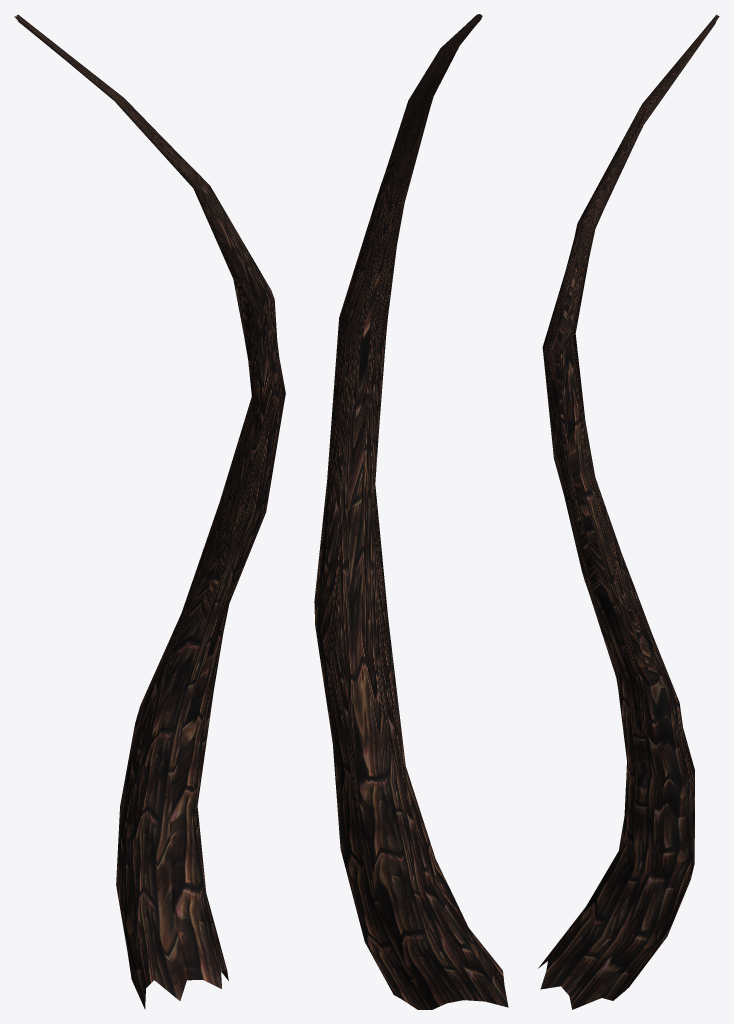
Rendered from tree_04.FBX.
3 views of the same model, side by side, from view 1: azimuth 30°, elevation 25°; view 2: azimuth 150°, elevation 25°; view 3: azimuth 270°, elevation 25° (orthographic). The views are drawn at different scales.
Parts seen in each view (by area): view 1: t_04; view 2: t_04; view 3: t_04.
Part boxes in pixels (left/top/right/bottom): t_04: left=14, top=14, right=285, bottom=1008; t_04: left=314, top=14, right=508, bottom=1009; t_04: left=538, top=14, right=719, bottom=1009.
Bounding box in the file's own units: 15.25 × 70.17 × 12.39.
